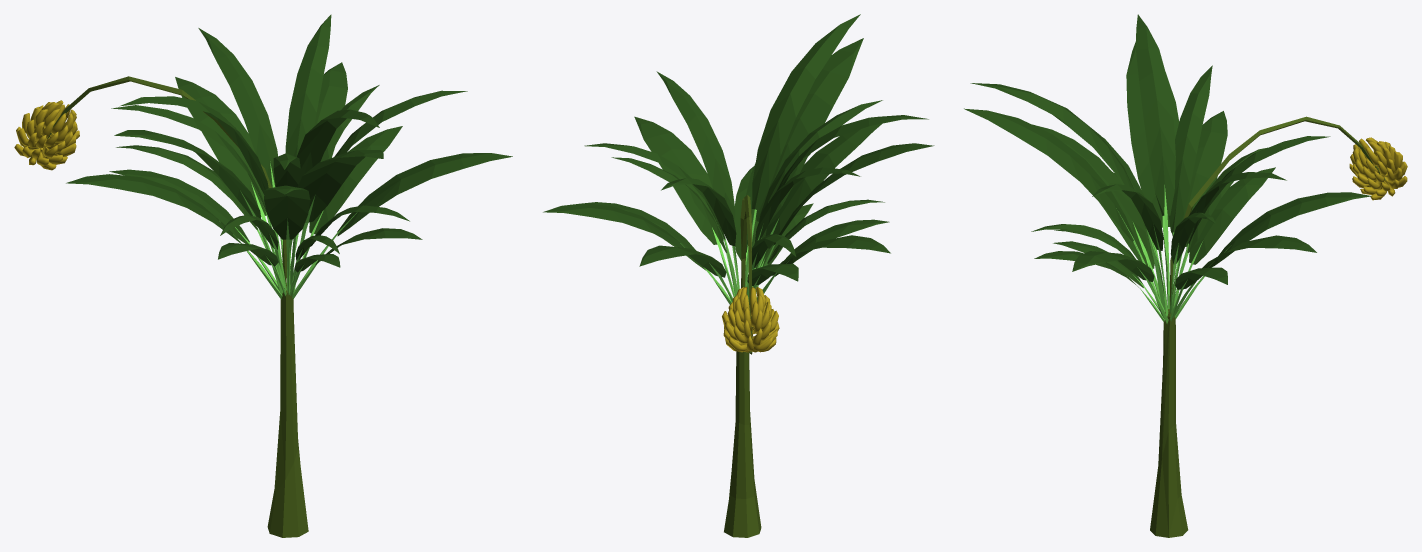
Rendered from SM_BananaTree_001_LOD4.fbx.
The picture shows the model from 3 angles, left to right: view 1: azimuth 30°, elevation 25°; view 2: azimuth 150°, elevation 25°; view 3: azimuth 270°, elevation 25°; orthographic projection. The views are drawn at different scales.
Parts seen in each view (by area): view 1: BananaTree; view 2: BananaTree; view 3: BananaTree.
Boxes of the visible parts, <box> form: BananaTree: <box>14,14,512,537</box>; BananaTree: <box>543,14,934,537</box>; BananaTree: <box>964,14,1407,537</box>.
Bounding box in the file's own units: 274 × 350 × 321.
